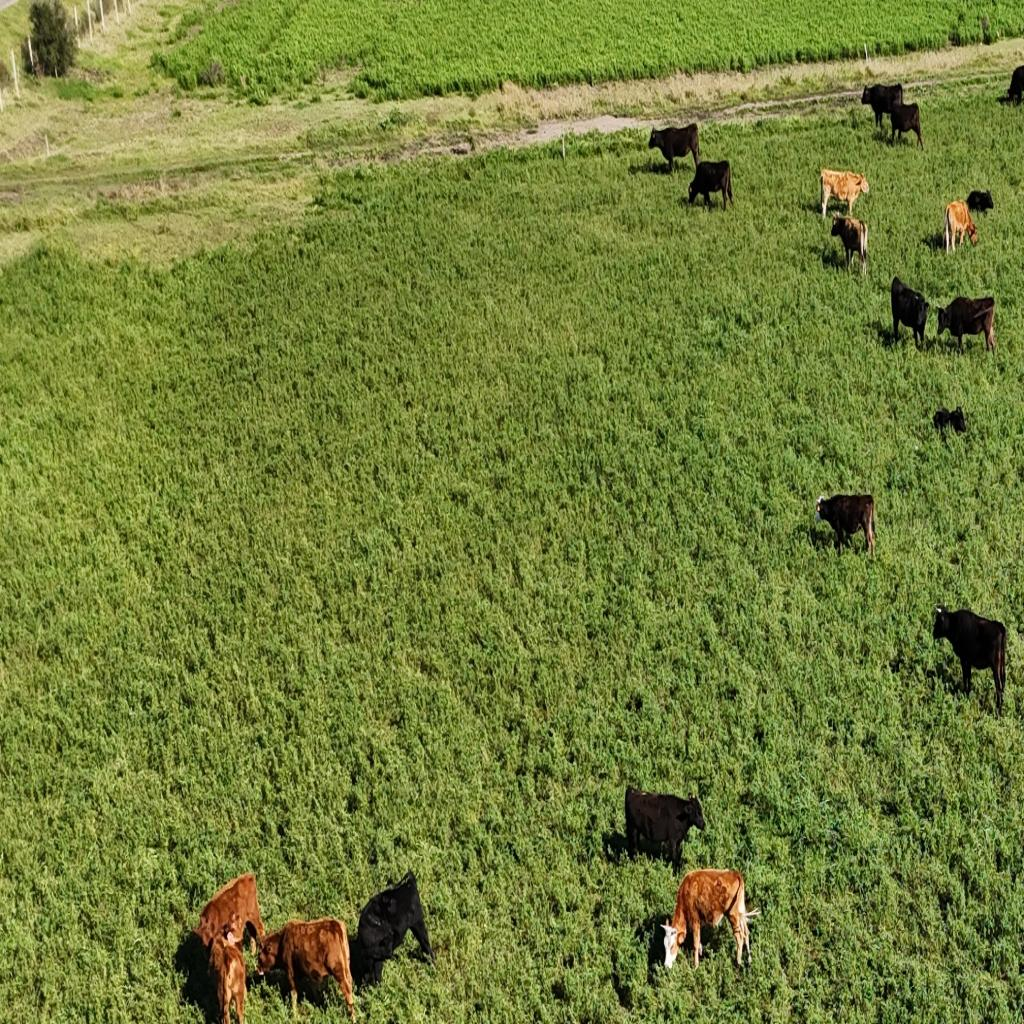cow: (923, 585, 1012, 713), (254, 917, 356, 1024), (352, 870, 434, 990), (679, 866, 764, 968), (624, 787, 706, 871), (193, 874, 265, 960), (204, 908, 249, 1024), (814, 487, 876, 558), (936, 296, 996, 356), (660, 899, 694, 991), (888, 274, 928, 348), (820, 168, 869, 225), (648, 122, 698, 174), (830, 213, 868, 277), (688, 160, 733, 212), (861, 82, 903, 134), (943, 199, 979, 256), (889, 100, 924, 152), (996, 61, 1022, 107), (932, 406, 967, 437), (966, 189, 994, 217), (1013, 62, 1024, 106)
